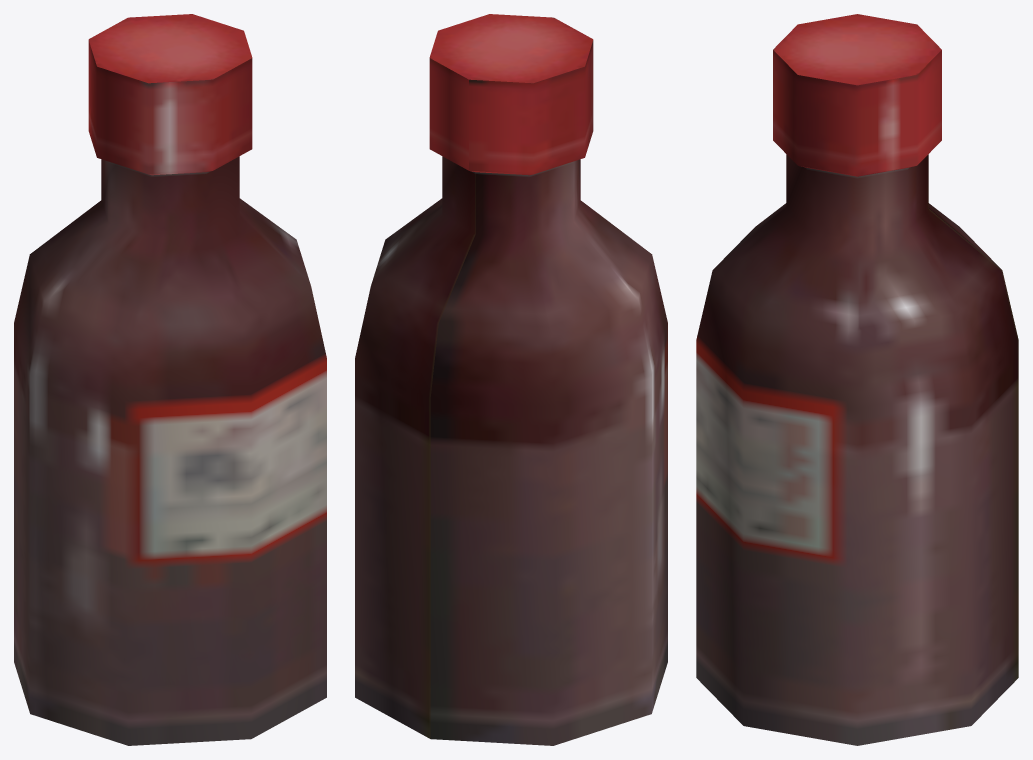
The model's file is jar_small_2.fbx.
3 views of the same model, side by side, from view 1: azimuth 30°, elevation 25°; view 2: azimuth 150°, elevation 25°; view 3: azimuth 270°, elevation 25° (orthographic).
Parts seen in each view (by area): view 1: mesh_0; view 2: mesh_0; view 3: mesh_0.
Part boxes in pixels (<box>): mesh_0: <box>14,14,326,745</box>; mesh_0: <box>355,14,667,745</box>; mesh_0: <box>696,14,1018,745</box>.
Size of the model in its own units: 4.65 by 10 by 4.65.
1 material, 1 textured.
